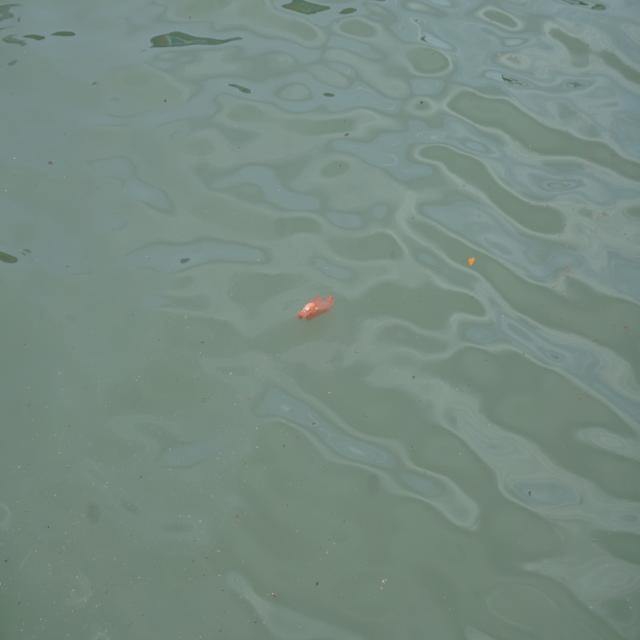Kantong Plastik: (296, 289, 337, 327)
